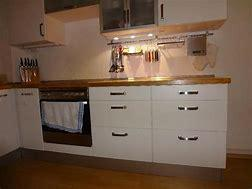cabinet_door: (153, 129, 224, 164), (152, 99, 226, 130), (93, 127, 151, 157), (91, 100, 152, 127), (156, 0, 224, 23), (15, 89, 41, 146), (8, 0, 42, 41), (0, 89, 17, 152), (153, 86, 226, 99), (100, 0, 127, 29), (90, 87, 153, 99), (127, 1, 156, 27)
handle: (41, 101, 90, 107), (177, 136, 199, 143), (110, 131, 129, 138), (177, 105, 199, 111), (178, 90, 199, 96), (38, 21, 45, 38), (109, 104, 128, 110), (160, 3, 166, 21), (109, 90, 125, 96), (154, 48, 160, 63), (123, 9, 128, 26), (20, 91, 34, 97), (127, 9, 132, 25), (0, 92, 9, 99)
